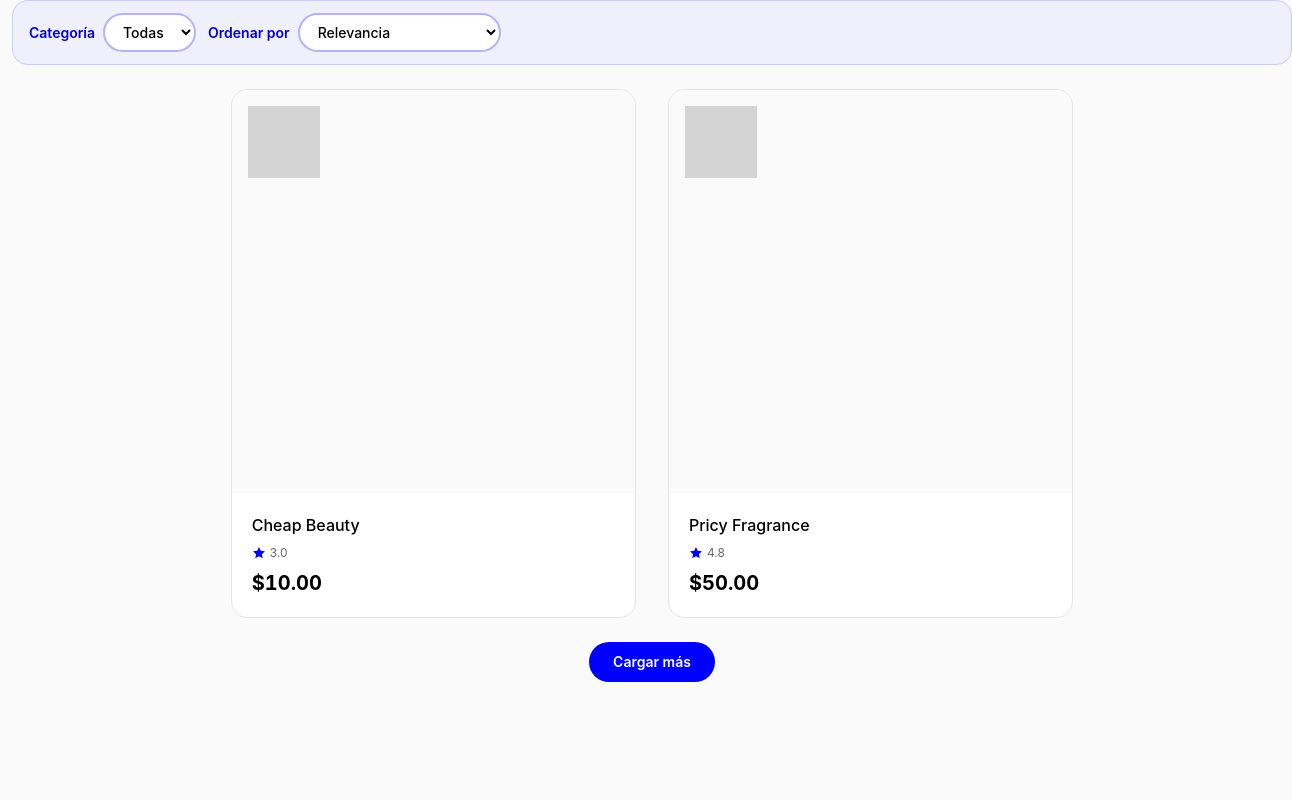
Test: ProductListingV2 › loads more products and appends them
Step 1. Click the button "Cargar más" → [652, 662], box [589, 642, 715, 682]
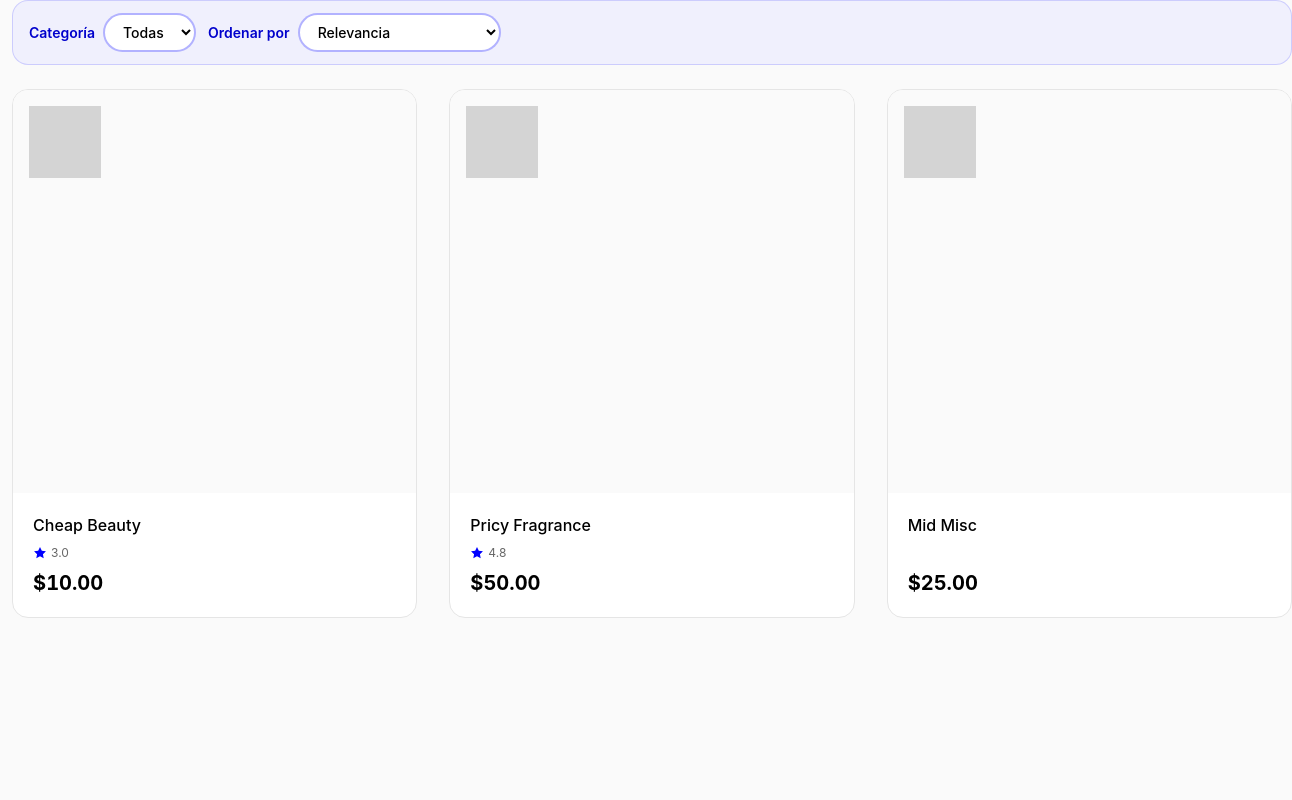
Expected: the heading "Mid Misc" is shown, [908, 515, 977, 535]
Expected: the button "Cargar más" is gone
